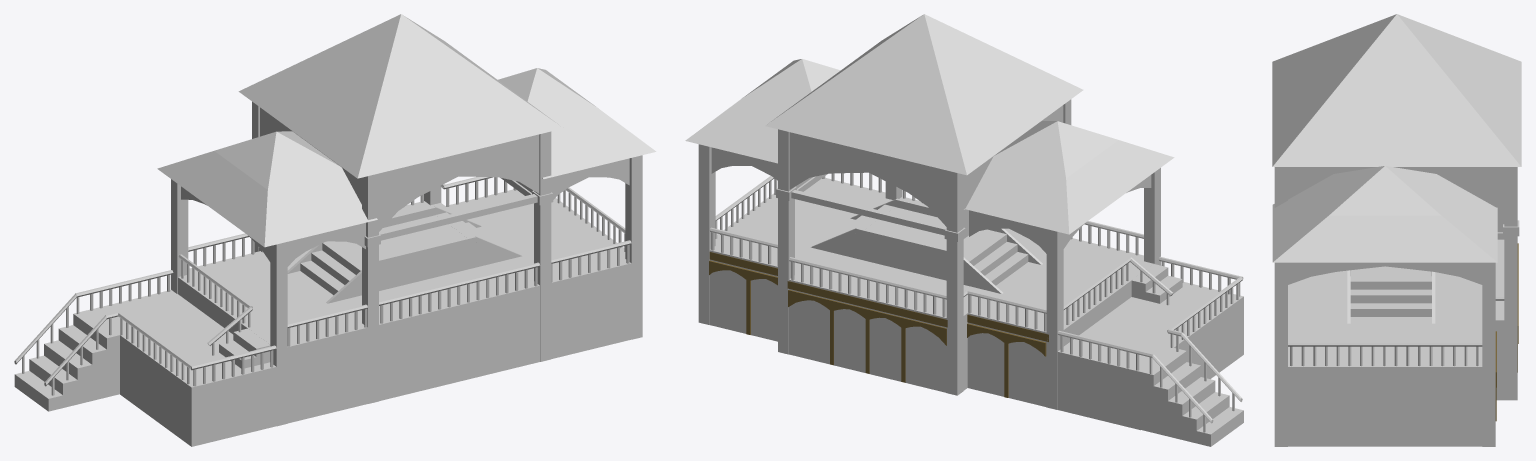
File: Stands.fbx
3 views of the same model, side by side, from view 1: azimuth 30°, elevation 25°; view 2: azimuth 150°, elevation 25°; view 3: azimuth 270°, elevation 25° (orthographic). The views are drawn at different scales.
Parts seen in each view (by area): view 1: Cube, Cone, Cone.001, Cone.002, Cube.032, Cube.011, Cube.053, Cube.004, Cube.003, Cube.005, Cube.008, Cube.047 (+13 smaller); view 2: Cube, Cone, Cone.001, Cube.032, Cone.002, Cube.012, Cube.053, Cube.002, Cube.001, Cube.006, Cube.007, Cube.047 (+17 smaller); view 3: Cone, Cube, Cone.002, Cube.052, Cube.001, Cube.009, Cube.007, Cube.008, Cube.026, Cylinder.014, Cylinder.016, Cube.053 (+1 smaller).
Part boxes in pixels (x1,y1,x2,y2): Cube: [88, 189, 631, 446]; Cone: [238, 14, 563, 178]; Cone.001: [157, 131, 377, 247]; Cone.002: [498, 68, 656, 179]; Cube.032: [14, 310, 120, 411]; Cube.011: [379, 134, 539, 231]; Cube.053: [336, 206, 476, 290]; Cube.004: [534, 131, 551, 361]; Cube.003: [362, 173, 378, 403]; Cube.005: [270, 242, 287, 426]; Cube.008: [625, 155, 642, 339]; Cube.047: [300, 241, 361, 299]; Cube: [709, 178, 1243, 430]; Cone: [765, 14, 1083, 175]; Cone.001: [965, 121, 1174, 234]; Cube.032: [1139, 347, 1243, 446]; Cone.002: [685, 59, 840, 163]; Cube.012: [789, 132, 946, 226]; Cube.053: [855, 198, 996, 280]; Cube.002: [946, 170, 963, 395]; Cube.001: [778, 129, 794, 354]; Cube.006: [1046, 229, 1063, 409]; Cube.007: [698, 144, 715, 324]; Cube.047: [963, 231, 1028, 290]; Cone: [1272, 14, 1521, 166]; Cube: [1288, 239, 1504, 446]; Cone.002: [1272, 166, 1497, 262]; Cube.052: [1350, 276, 1431, 316]; Cube.001: [1504, 167, 1517, 400]; Cube.009: [1288, 167, 1504, 207]; Cube.007: [1482, 262, 1495, 446]; Cube.008: [1274, 262, 1287, 446]; Cube.026: [1288, 262, 1482, 284]; Cylinder.014: [1290, 346, 1478, 366]; Cylinder.016: [1288, 342, 1482, 346]; Cube.053: [1350, 266, 1431, 275].
Size of the model in its own units: 1469 by 851 by 566.
